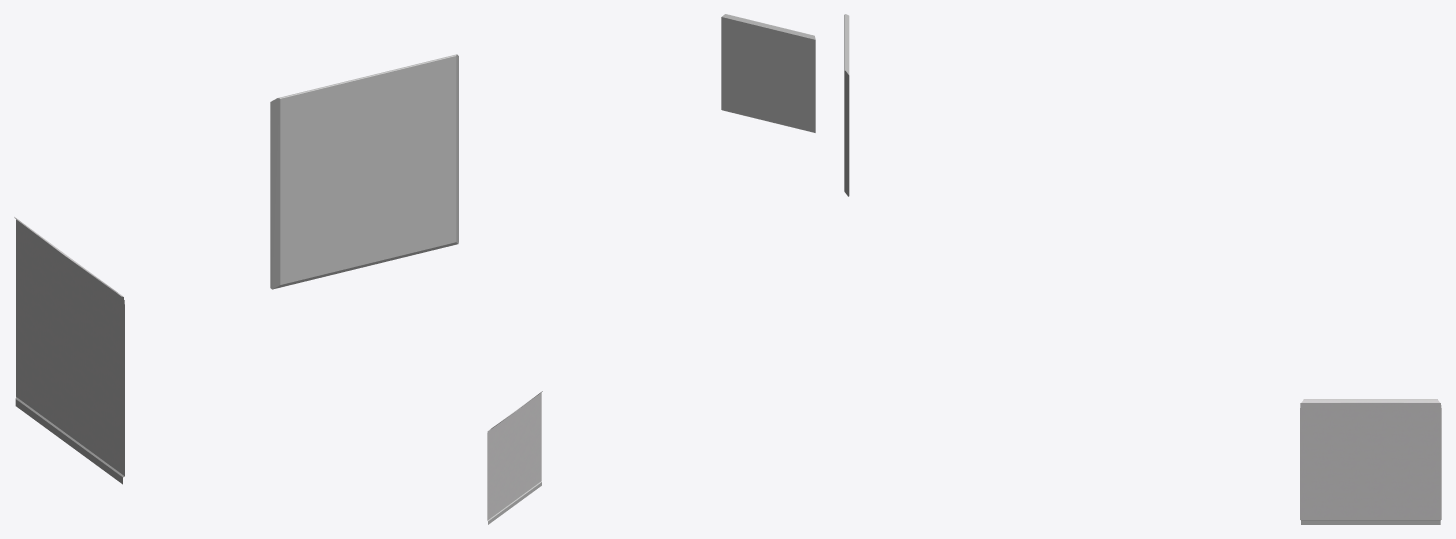
File: SM_Wall_kitchen_2.fbx
3 views of the same model, side by side, from view 1: azimuth 30°, elevation 25°; view 2: azimuth 150°, elevation 25°; view 3: azimuth 270°, elevation 25° (orthographic). The views are drawn at different scales.
Visible parts, largest first — view 1: SM_Wall_kitchen_2_ConvexHulls, SM_Wall_kitchen_2; view 2: SM_Wall_kitchen_2_ConvexHulls, SM_Wall_kitchen_2; view 3: SM_Wall_kitchen_2, SM_Wall_kitchen_2_ConvexHulls.
Boxes of the visible parts, x1,y1,x2,y2 form: SM_Wall_kitchen_2_ConvexHulls: (270, 54, 458, 289); SM_Wall_kitchen_2: (14, 217, 124, 484); SM_Wall_kitchen_2_ConvexHulls: (721, 14, 815, 132); SM_Wall_kitchen_2: (487, 391, 542, 524); SM_Wall_kitchen_2: (1300, 399, 1441, 524); SM_Wall_kitchen_2_ConvexHulls: (844, 14, 849, 196).
Size of the model in its own units: 495 by 1953 by 1620.
